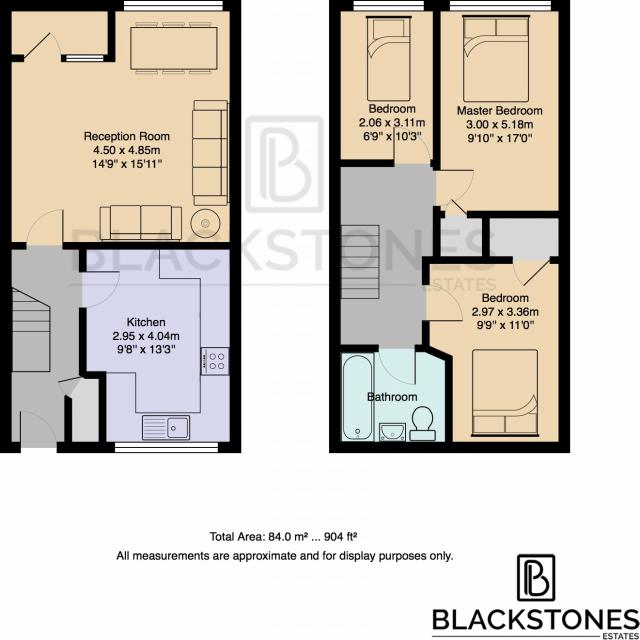DOOR: (16, 407, 61, 455), (76, 267, 124, 311), (375, 342, 418, 389), (23, 207, 67, 252), (430, 167, 476, 210), (419, 281, 465, 324), (391, 124, 434, 169), (20, 26, 64, 64), (510, 255, 553, 291), (443, 197, 469, 219)
ROOM: (0, 0, 243, 252), (79, 240, 242, 455), (430, 0, 571, 218), (421, 255, 572, 454), (328, 0, 442, 167)
WINDOW: (112, 440, 220, 456), (447, 0, 554, 14), (122, 0, 226, 14), (351, 0, 426, 14), (63, 53, 106, 65)
